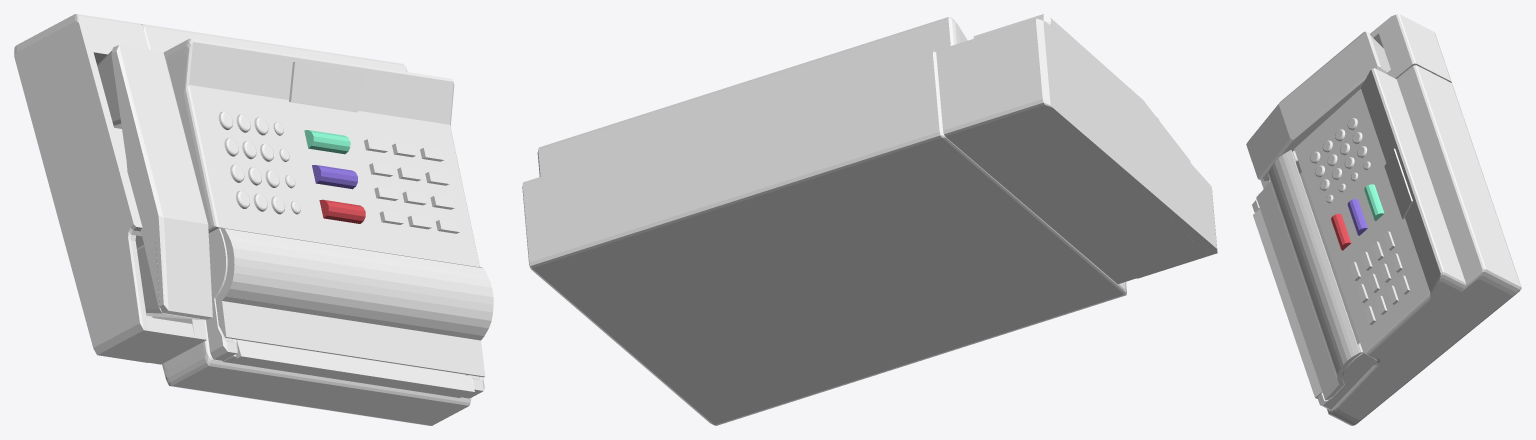
The model's file is FAX.glb.
3 views of the same model, side by side, from view 1: azimuth 30°, elevation 25°; view 2: azimuth 150°, elevation 25°; view 3: azimuth 270°, elevation 25° (orthographic). The views are drawn at different scales.
Visible parts, largest first — view 1: _0; view 2: _0; view 3: _0.
Boxes of the visible parts, box(x1,y1,x2,y2) form: _0: box(14, 14, 493, 425); _0: box(522, 14, 1217, 425); _0: box(1246, 14, 1521, 425).
Size of the model in its own units: 6.57 by 6.06 by 4.9.
